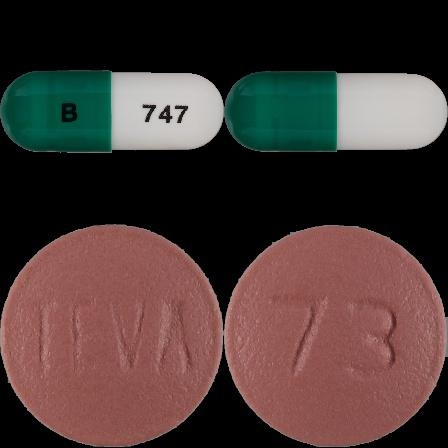63187-702: (0, 0, 224, 224)
